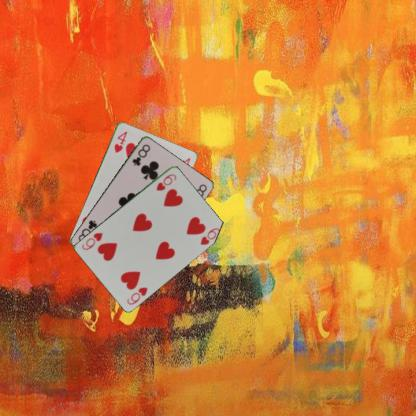4h: (112, 128, 128, 154)
6h: (124, 284, 149, 306), (154, 171, 177, 192)
8c: (130, 142, 152, 167)
